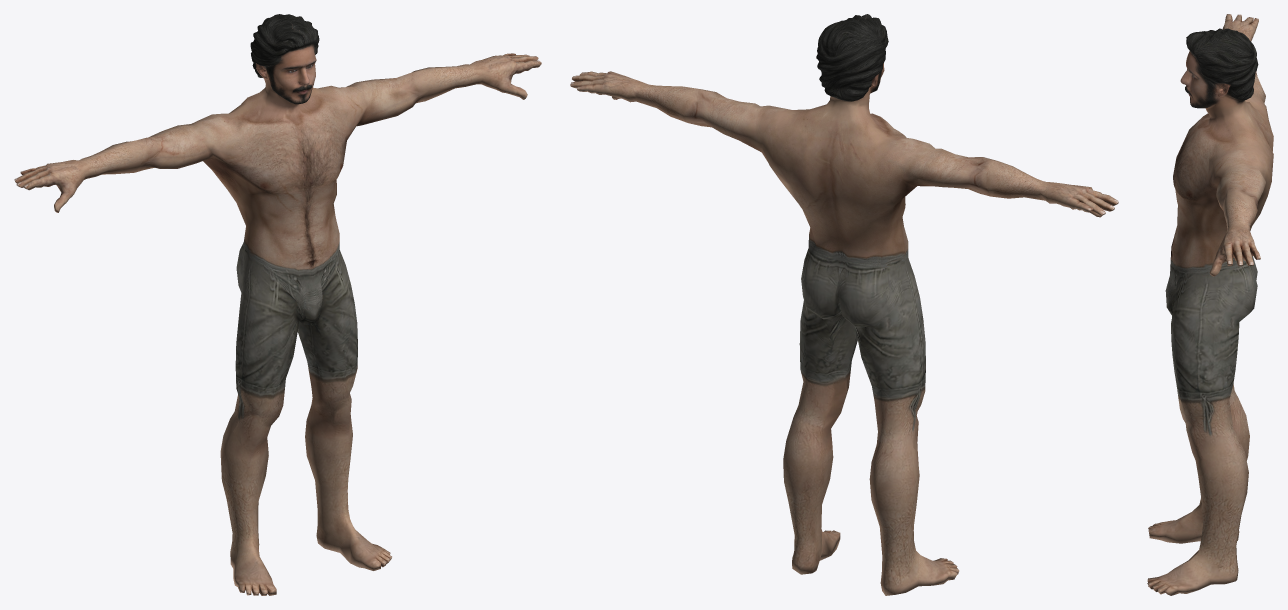
Rendered from indian npc.glb.
3 renders of one model, left to right at view 1: azimuth 30°, elevation 25°; view 2: azimuth 150°, elevation 25°; view 3: azimuth 270°, elevation 25°, orthographic. The views are drawn at different scales.
Parts seen in each view (by area): view 1: hamzasajid513@gmail.com; view 2: hamzasajid513@gmail.com; view 3: hamzasajid513@gmail.com.
Part boxes in pixels (bbox=[...]): hamzasajid513@gmail.com: bbox=[14, 14, 541, 595]; hamzasajid513@gmail.com: bbox=[570, 14, 1118, 595]; hamzasajid513@gmail.com: bbox=[1147, 14, 1273, 595].
Size of the model in its own units: 1.81 by 1.8 by 0.3883.
2 materials, 2 textured.
